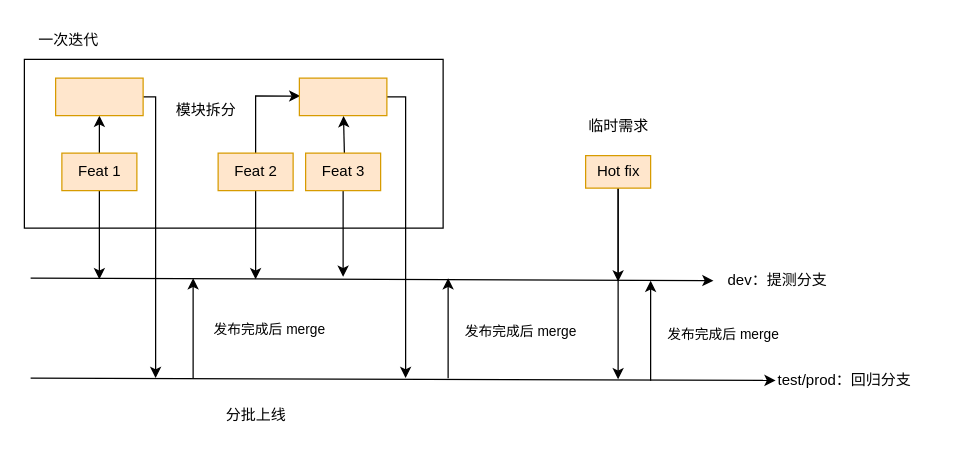
Some shapes in this 954 by 455 pixel diagram are drawn without their labels. Here are the shapes that lost their labels. From the top down, the centre of each, then its label:
At pixel 98 96: "release1".
At pixel 342 96: "release2".
